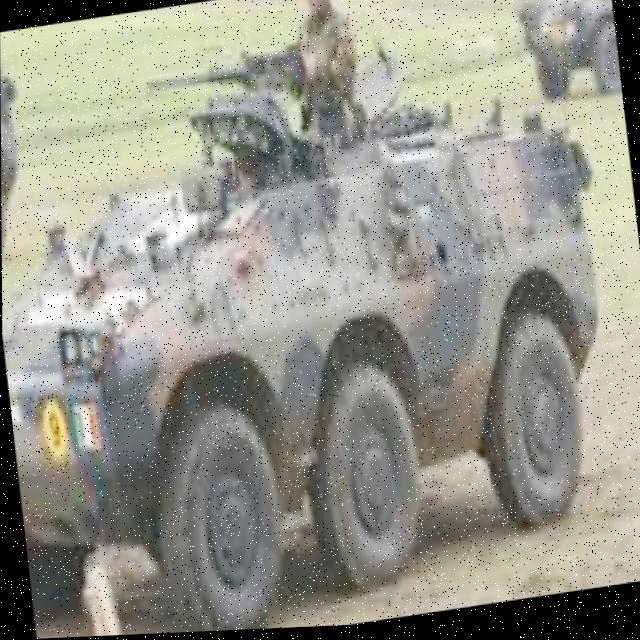MIL_APC: (0, 53, 636, 634)
